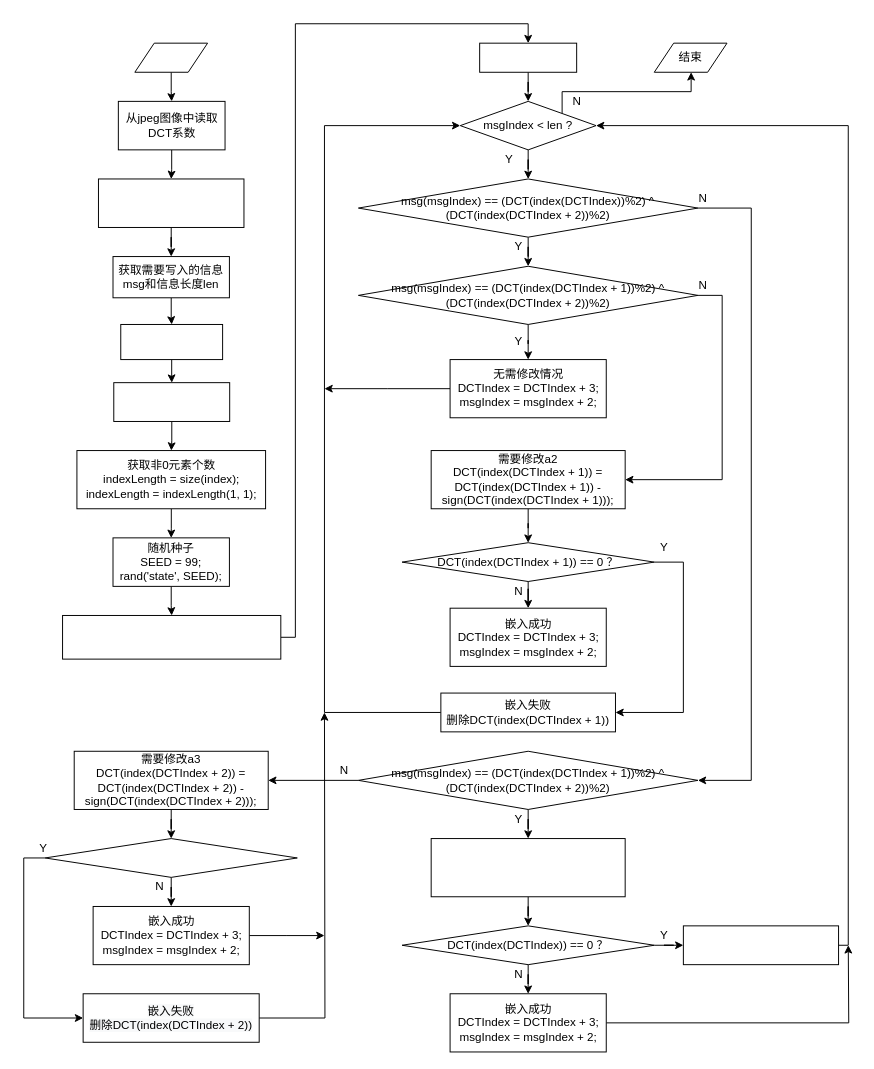
This 874x1069 diagram has some shape labels left out. Here are the shapes that lost their labels. From the top down, the centre of each, then its label:
point 171,57: 开始
point 528,57: DCTIndex = 1
point 170,202: 获取DCT系数矩阵的高、宽 [h, w] = size(DCT)
point 171,341: 获取非零元素 index = DCT~=0;
point 171,401: 获取非0元素下标 index = find(index);
point 171,636: 随机打乱非0元素下标并保存 index = index(randperm(indexLength));
point 170,857: DCT(index(DCTIndex + 2)) == 0 ？
point 527,867: 需要修改a1 DCT(index(DCTIndex)) = DCT(index(DCTIndex)) - sign(DCT(index(DCTIndex)));
point 760,945: 嵌入失败 删除DCT(index(DCTIndex))
